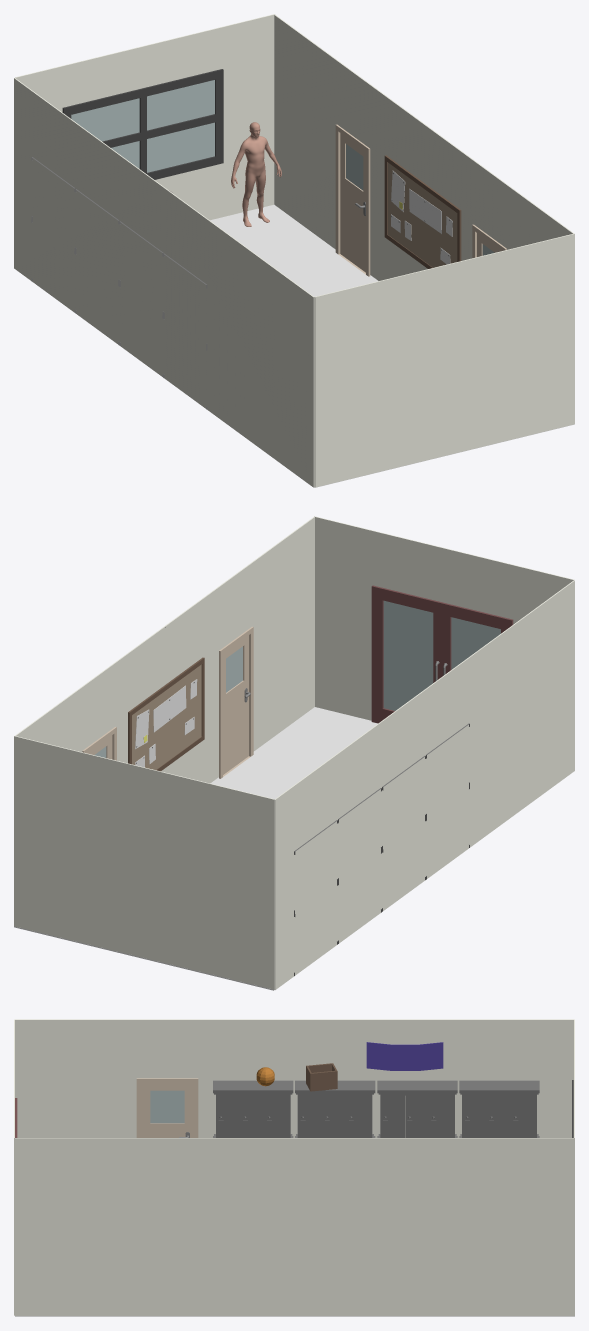
Rendered from pasillo.fbx.
3 renders of one model, top to bottom at view 1: azimuth 30°, elevation 25°; view 2: azimuth 150°, elevation 25°; view 3: azimuth 270°, elevation 25°, orthographic. The views are drawn at different scales.
Visible parts, largest first — view 1: pCube4, pCube15, pCube10, pCube2, pCube8, pCube1, pCube5 (×2), pCube11, HumanBody:humanBody, pCube19; view 2: pCube4, pCube2, pCube10, pCube15, pCube6, pCube1, pCube5 (×2), pCube11, pCube19; view 3: pCube10, pCube4, Taquillas1, pCube5, Taquillas2, pPlane1, Puerta, pCube7, pCube1.
Part boxes in pixels (left/top/right/bottom): pCube4: left=14, top=78, right=314, bottom=487; pCube15: left=314, top=233, right=574, bottom=487; pCube10: left=274, top=14, right=573, bottom=280; pCube2: left=15, top=14, right=274, bottom=220; pCube8: left=62, top=69, right=223, bottom=179; pCube1: left=210, top=204, right=574, bottom=487; pCube5 (×2): left=335, top=124, right=506, bottom=276; pCube11: left=384, top=155, right=461, bottom=268; HumanBody:humanBody: left=231, top=122, right=281, bottom=226; pCube19: left=409, top=189, right=441, bottom=233; pCube4: left=274, top=580, right=574, bottom=989; pCube2: left=14, top=736, right=274, bottom=989; pCube10: left=15, top=517, right=314, bottom=783; pCube15: left=314, top=516, right=573, bottom=720; pCube6: left=371, top=585, right=513, bottom=723; pCube1: left=14, top=707, right=377, bottom=990; pCube5 (×2): left=82, top=626, right=253, bottom=778; pCube11: left=128, top=657, right=204, bottom=771; pCube19: left=153, top=685, right=186, bottom=732; pCube10: left=15, top=1138, right=574, bottom=1315; pCube4: left=15, top=1019, right=573, bottom=1137; Taquillas1: left=213, top=1080, right=539, bottom=1137; pCube5: left=136, top=1078, right=198, bottom=1137; Taquillas2: left=377, top=1080, right=457, bottom=1137; pPlane1: left=366, top=1042, right=443, bottom=1070; Puerta: left=406, top=1095, right=429, bottom=1137; pCube7: left=306, top=1063, right=337, bottom=1091; pCube1: left=15, top=1315, right=574, bottom=1316.
Bounding box in the file's own units: 505 × 351 × 1002.
